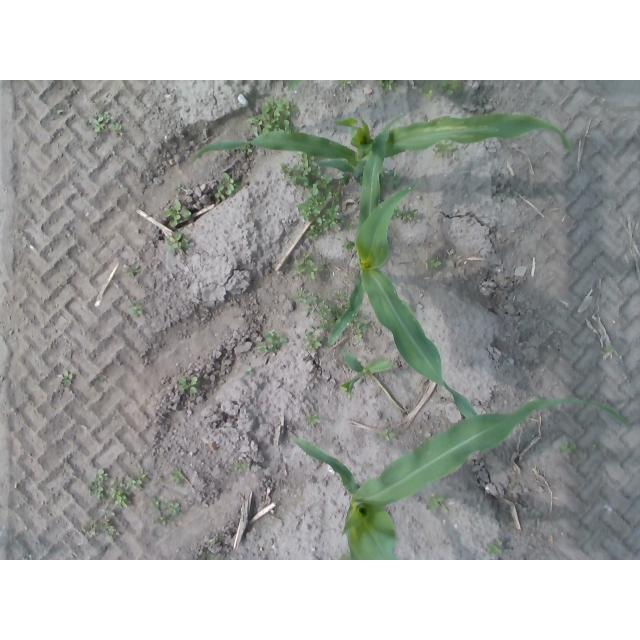Maize: (293, 396, 631, 560), (326, 116, 478, 417), (187, 113, 575, 180), (287, 81, 301, 92)
Weeds: (293, 171, 343, 240), (84, 467, 153, 510), (294, 284, 338, 328), (245, 98, 297, 134), (79, 509, 121, 542), (277, 152, 317, 184), (163, 198, 194, 230), (152, 496, 181, 529), (212, 171, 245, 200), (257, 331, 291, 356), (164, 231, 192, 258), (291, 252, 317, 280), (195, 536, 221, 561), (379, 165, 403, 189), (304, 331, 325, 358), (425, 494, 451, 515), (88, 113, 111, 136), (392, 207, 420, 223), (128, 296, 147, 319), (433, 143, 459, 158), (351, 320, 367, 344), (437, 81, 462, 96), (178, 377, 200, 394), (56, 368, 74, 388), (487, 536, 505, 556), (227, 460, 249, 475), (333, 289, 350, 308), (92, 375, 112, 390), (168, 467, 185, 483), (559, 438, 576, 454), (426, 255, 443, 269), (380, 427, 396, 441), (305, 413, 321, 427), (317, 258, 331, 274), (376, 81, 396, 92), (421, 84, 435, 99), (126, 266, 141, 278), (343, 240, 357, 252), (111, 123, 125, 134), (331, 553, 349, 560), (347, 219, 357, 231), (241, 145, 255, 153), (175, 183, 186, 193), (603, 344, 615, 353), (335, 80, 349, 86), (247, 366, 255, 375), (591, 445, 598, 452)
